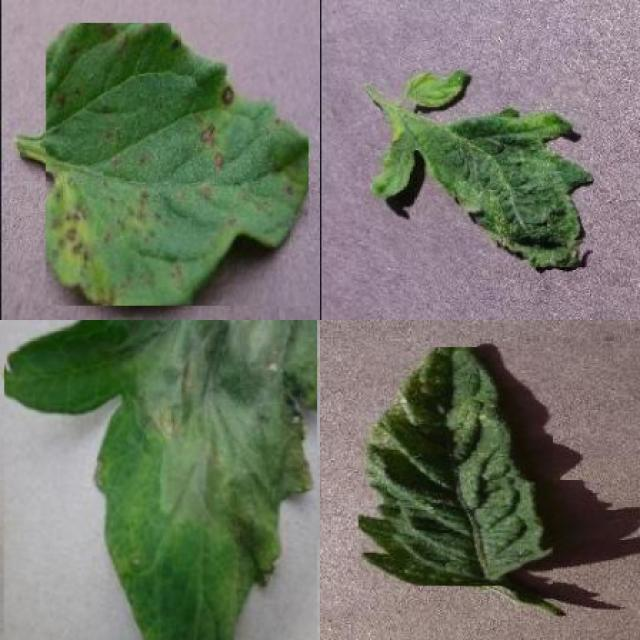Late Blight: (4, 320, 317, 640)
Mosaic Virus: (370, 70, 593, 267)
Septoria: (45, 23, 308, 306)
Spider Mites: (359, 347, 554, 586)
